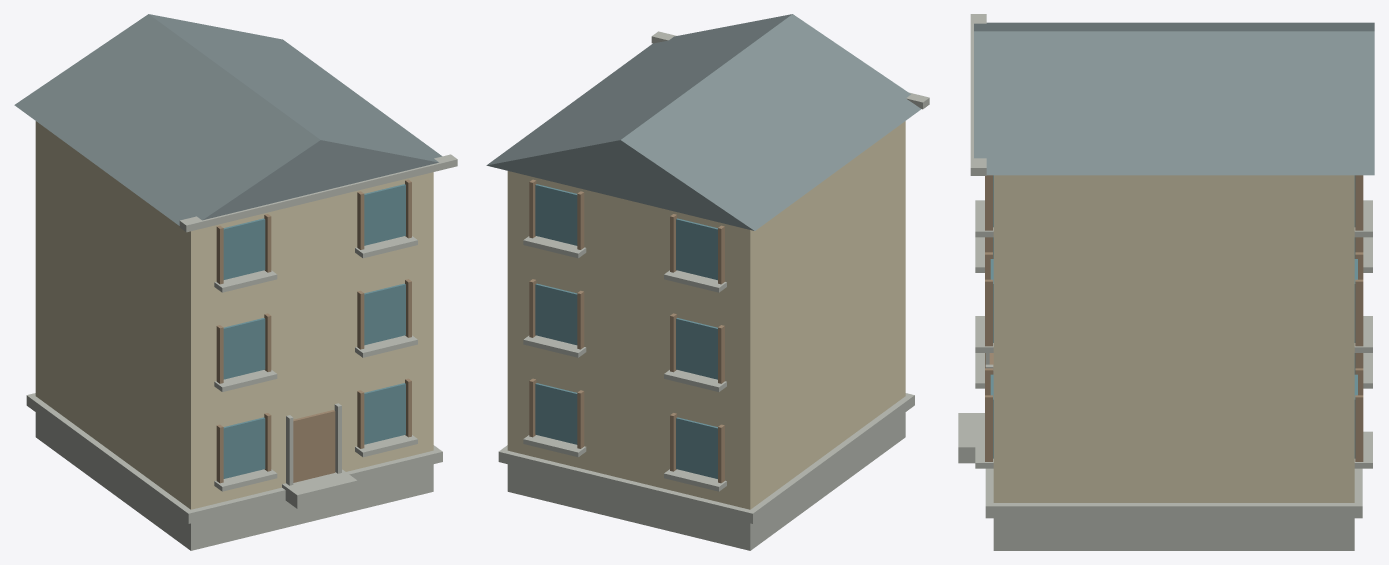
File: nord-2.glb
The picture shows the model from 3 angles, left to right: view 1: azimuth 30°, elevation 25°; view 2: azimuth 150°, elevation 25°; view 3: azimuth 270°, elevation 25°; orthographic projection. The views are drawn at different scales.
Size of the model in its own units: 4.14 by 5.65 by 4.73.
